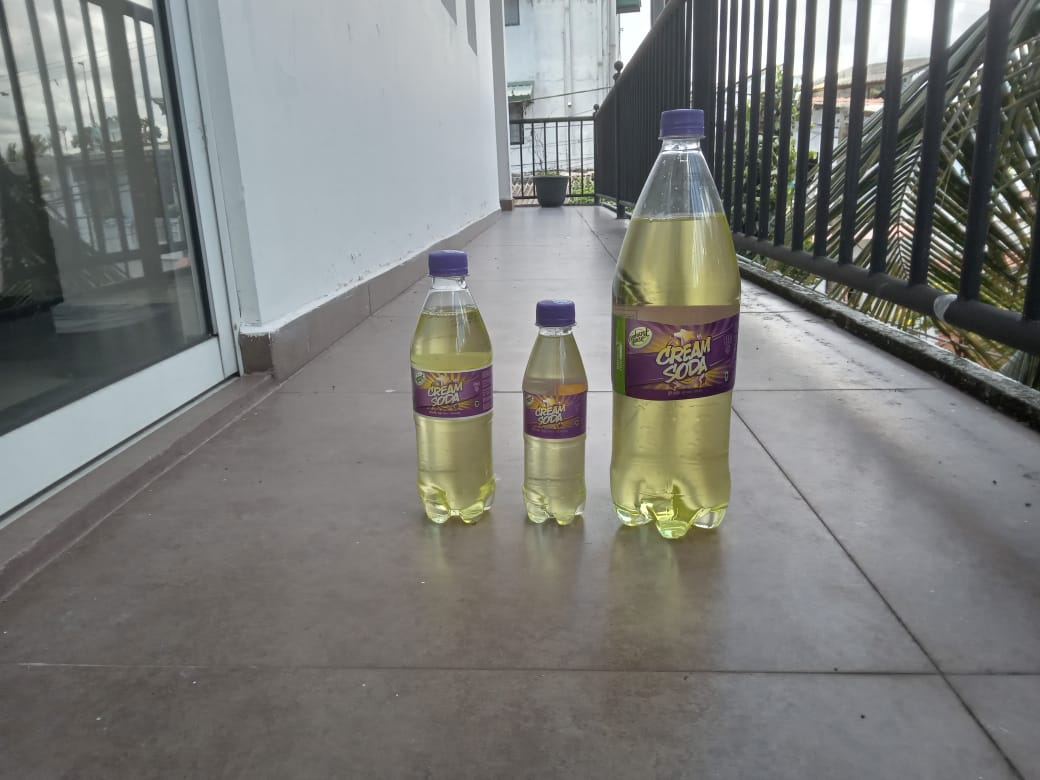L: (605, 107, 744, 541)
S: (406, 251, 497, 529)
Xs: (518, 301, 589, 527)
